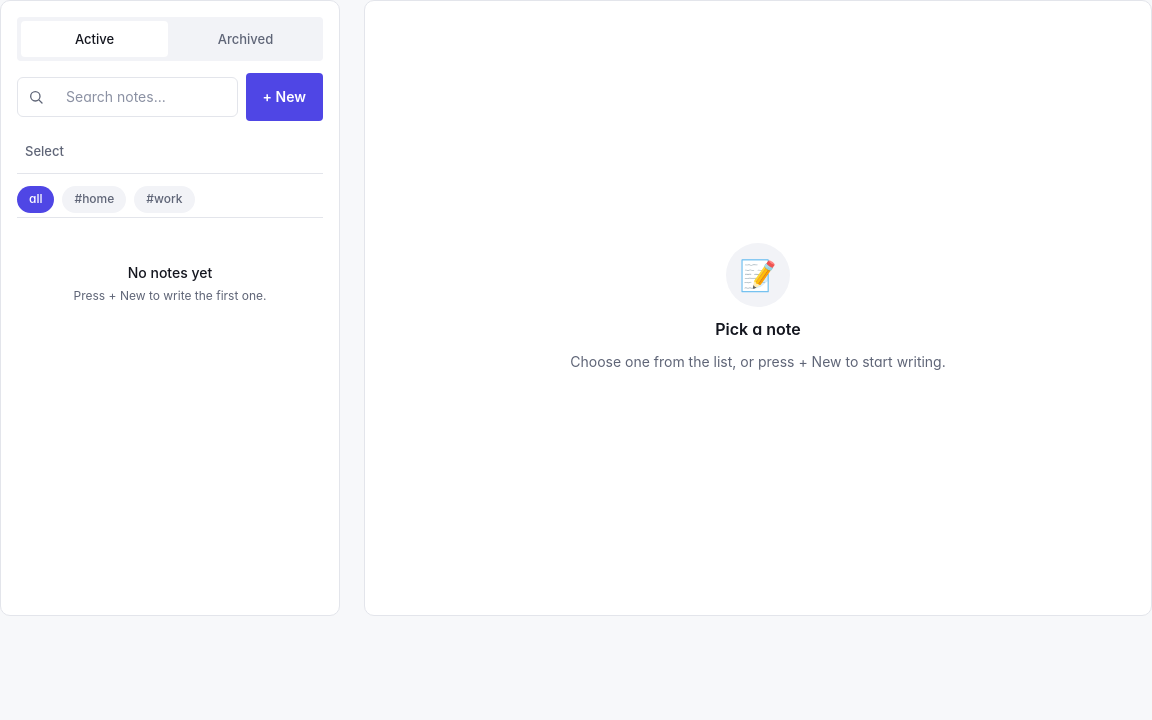
Notes page on the store › tells an empty account apart from a search that found nothing
This screenshot has width=1152, height=720.
Expected: the text "No notes yet" is shown, x1=128 y1=264 x2=212 y2=281
Type "zzz" into the field with placeholder "Search notes..." at (127, 97), box x1=17 y1=77 x2=238 y2=117
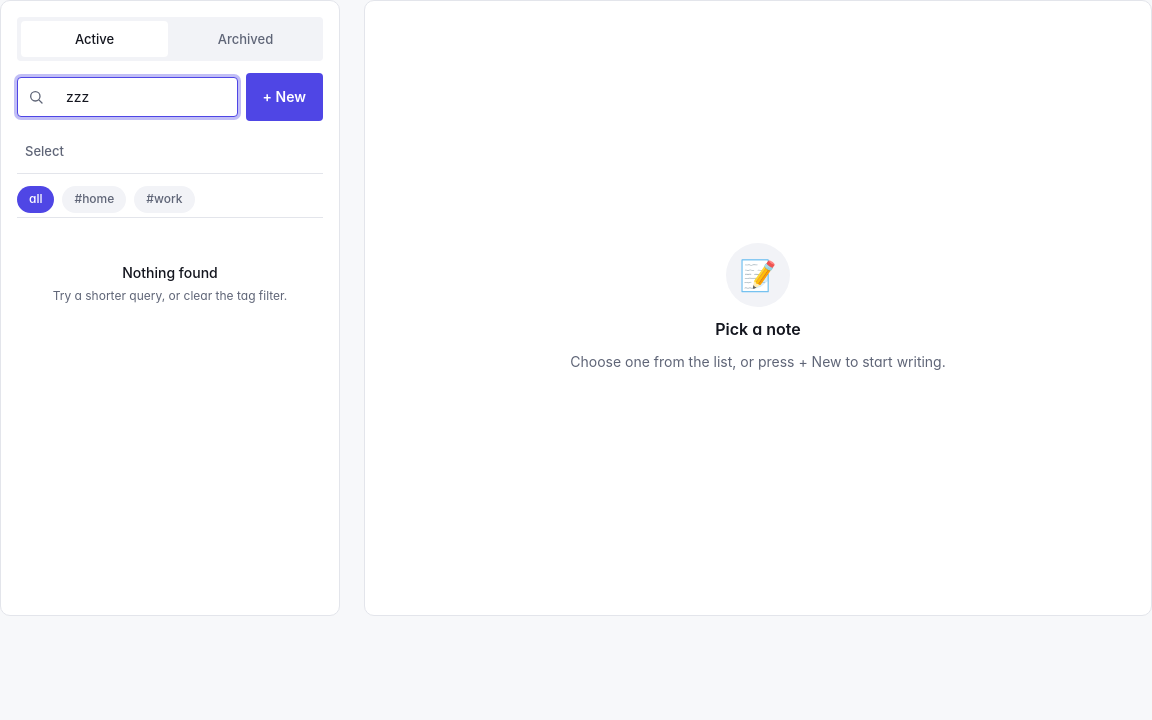
Now the text "Nothing found" is shown, box x1=122 y1=264 x2=218 y2=281
Now the text "No notes yet" is gone
